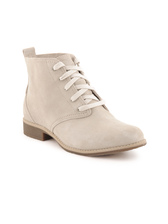shoes: (17, 42, 149, 154)
